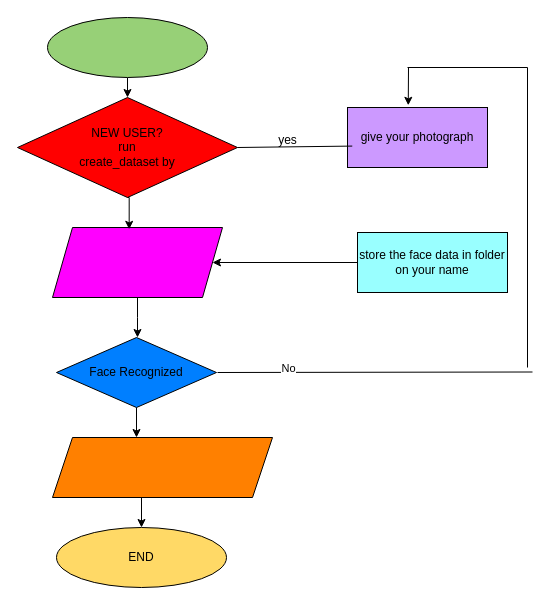
Image size: 551x605. Some labels were removed from this diagram. The centre of each missing label's shape, as x and y in pixels:
"RECOGNIZE THE FACE run face_recognize py" belongs at (x=137, y=262).
"Start" belongs at (x=127, y=47).
"stored in csv file with registration numberdate,time of entry" belongs at (x=162, y=467).
